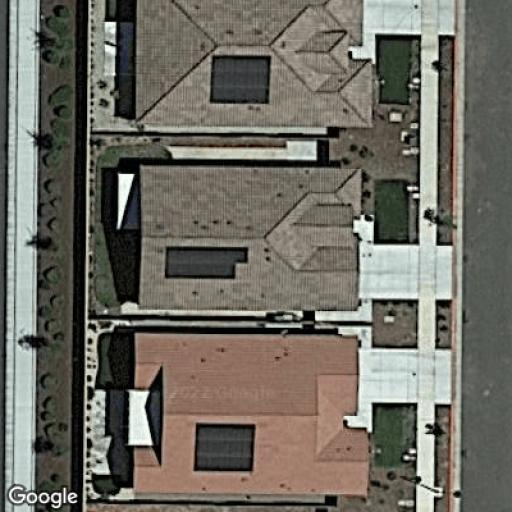solar-panel: (191, 418, 260, 476), (206, 50, 274, 107), (162, 242, 253, 283)
